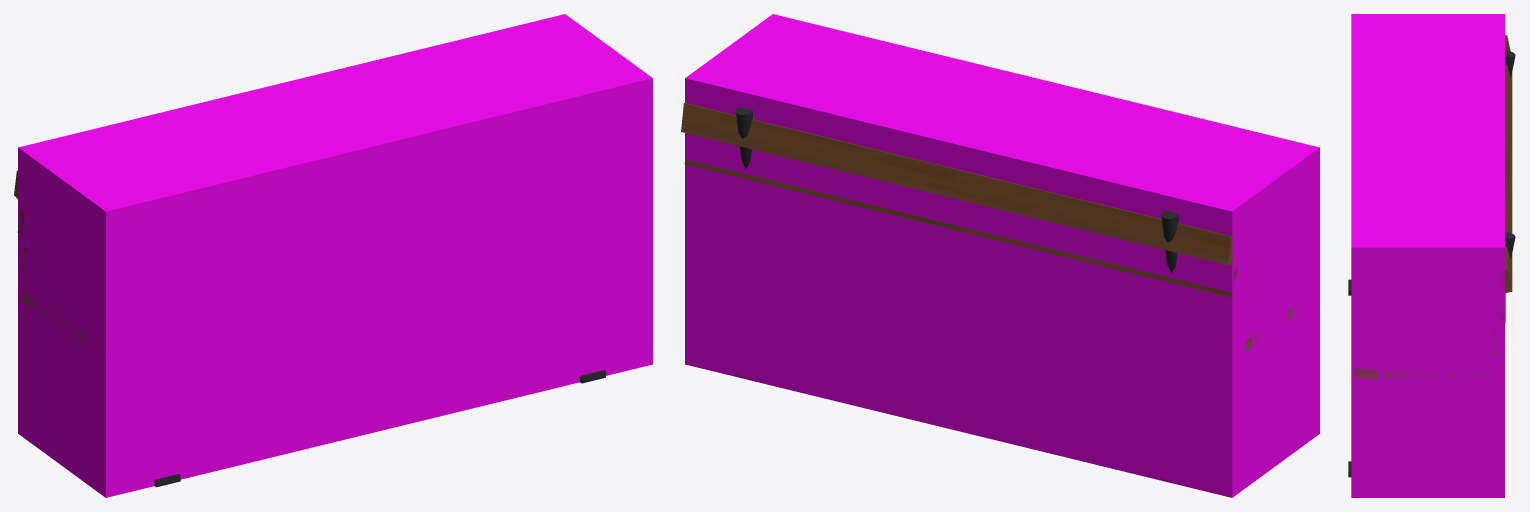
Rendered from EN_Yard_Bench.fbx.
3 views of the same model, side by side, from view 1: azimuth 30°, elevation 25°; view 2: azimuth 150°, elevation 25°; view 3: azimuth 270°, elevation 25° (orthographic). The views are drawn at different scales.
Parts seen in each view (by area): view 1: COL_Body, EN_Yard_Bench_Mesh; view 2: COL_Body, EN_Yard_Bench_Mesh; view 3: COL_Body, EN_Yard_Bench_Mesh.
Boxes of the visible parts, x1,y1,x2,y2 form: COL_Body: [18, 14, 652, 497]; EN_Yard_Bench_Mesh: [14, 170, 605, 487]; COL_Body: [685, 14, 1319, 497]; EN_Yard_Bench_Mesh: [681, 103, 1297, 484]; COL_Body: [1351, 14, 1504, 497]; EN_Yard_Bench_Mesh: [1348, 35, 1515, 477].
Size of the model in its own units: 1.8 by 0.9012 by 0.5446.
